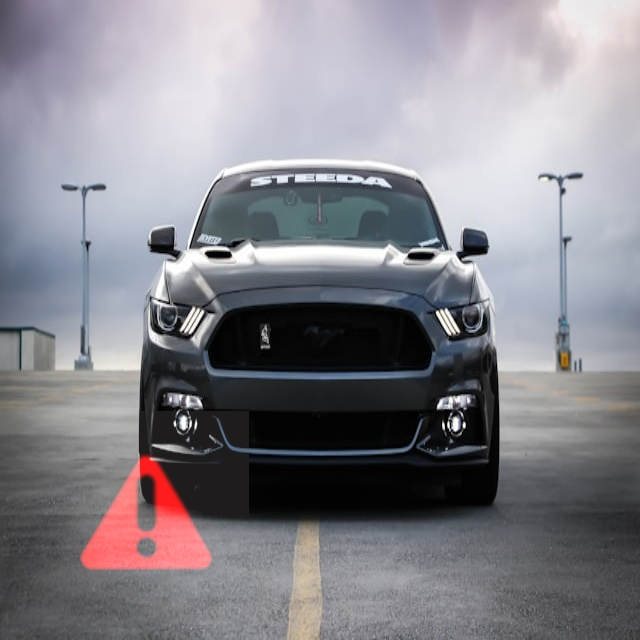symbol: (43, 411, 249, 617)
